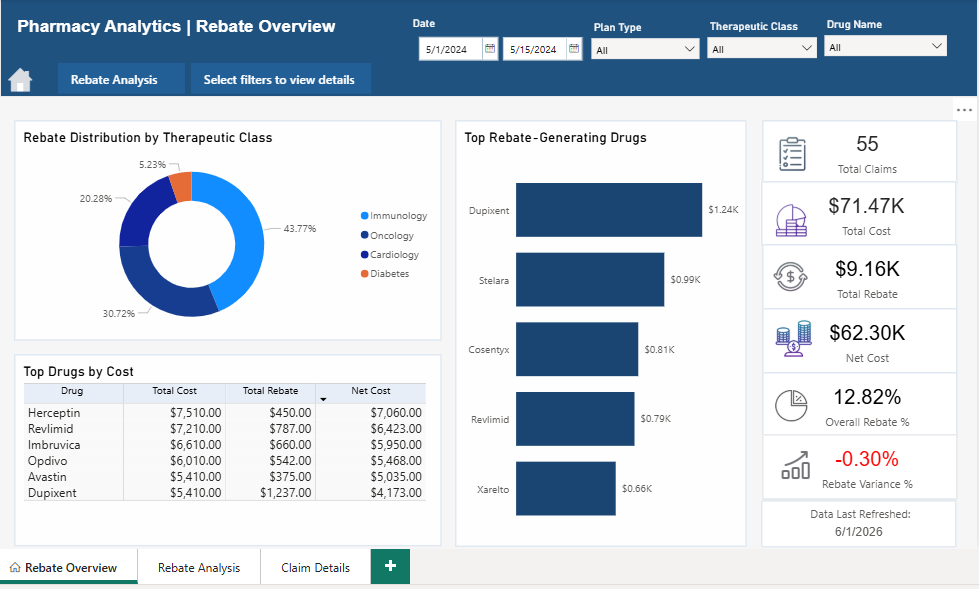

Layout of this report page (visuals, bound fields, positions):
{"tool":"powerbi","page":{"name":"Rebate Overview","canvas":[1280,720],"ordinal":0},"visuals":[{"type":"shape","box":[0,0,1280.2,128.2],"z":0},{"type":"card","title":"Data Last Refreshed:","fields":{"Values":["Min(RefreshDate.RefreshDate)"]},"box":[996.5,645.1,256.3,72],"z":1000},{"type":"clusteredBarChart","title":"Top Rebate-Generating Drugs","fields":{"Category":["Drugs.Drug_Name"],"Y":["Measures Table.Total Rebate"]},"box":[599,144,385.9,570.2],"z":2000},{"type":"tableEx","title":"Top Drugs by Cost","fields":{"Values":["Drugs.Drug_Name","Claims.Total Cost","Claims.Total Rebate","Claims.Net Cost"]},"box":[18.7,457.9,568.8,256.3],"z":3000},{"type":"donutChart","title":"Rebate Distribution by Therapeutic Class","fields":{"Category":["Drugs.Therapeutic_Class"],"Y":["Measures Table.Total Rebate"]},"box":[18.7,144,568.8,303.8],"z":4000},{"type":"group","id":"g1","title":"Group 1","box":[996.5,144.8,256.3,83.5],"z":5000},{"type":"group","id":"g2","title":"Group 2","box":[995,227.1,257.9,86.4],"z":6000},{"type":"group","id":"g3","title":"Group 3","box":[996.5,310.6,256.3,86.4],"z":7000},{"type":"group","id":"g4","title":"Group 4","box":[996.5,395.4,256,86],"z":8000},{"type":"group","id":"g5","title":"Group 5","box":[996.5,479.1,256.3,86.4],"z":9000},{"type":"slicer","fields":{"Values":["Drugs.Drug_Name"]},"box":[1069.9,20.2,180,57.6],"z":10000},{"type":"slicer","fields":{"Values":["Drugs.Therapeutic_Class"]},"box":[915.8,21.6,162.7,59],"z":11000},{"type":"slicer","fields":{"Values":["Plans.Plan_Type"]},"box":[764.6,23,161.3,60.5],"z":12000},{"type":"slicer","title":"Date","fields":{"Values":["Claims.Date"]},"box":[535.7,23,233.3,60.5],"z":13000},{"type":"card","title":"Rebate Variance  %","fields":{"Values":["Measures List.Rebate Variance %"]},"box":[996.5,562.6,256,86],"z":13000,"group":"g14"},{"type":"image","box":[2.9,85,47.5,41.8],"z":14000},{"type":"card","title":"Overall Rebate %","fields":{"Values":["Measures List.Rebate %"]},"box":[996.5,479.1,256.3,86.4],"z":14000,"group":"g13"},{"type":"card","title":"Net Cost","fields":{"Values":["Claims.Net Cost"]},"box":[996.5,395.4,256,86],"z":15000,"group":"g12"},{"type":"group","id":"g6","title":"Group 6","box":[996.5,562.6,256,86],"z":15000},{"type":"group","id":"g7","title":"Group 13","box":[85,83.6,153,40.4],"z":16000},{"type":"card","title":"Total Rebate","fields":{"Values":["Claims.Total Rebate"]},"box":[996.5,310.6,256.3,86.4],"z":16000,"group":"g11"},{"type":"actionButton","box":[85,83.6,152.8,38.9],"z":17000,"group":"g7"},{"type":"group","id":"g8","title":"Group 14","box":[248.2,83.7,212.1,39],"z":17000},{"type":"card","title":"Total Cost","fields":{"Values":["Claims.Total Cost"]},"box":[996.6,227.1,256.3,86.4],"z":17000,"group":"g10"},{"type":"actionButton","box":[85,85,153,39],"z":18000,"group":"g7"},{"type":"actionButton","box":[248.2,83.7,212.1,39],"z":19000,"group":"g8"},{"type":"card","title":"Total Claims","fields":{"Values":["Claims.Total Claims"]},"box":[996.5,144.8,256.3,83.5],"z":19000,"group":"g9"},{"type":"actionButton","box":[248.2,85.1,212.1,36.1],"z":19500,"group":"g8"},{"type":"group","id":"g9","title":"Group 7","box":[996.5,144.8,256.3,83.5],"z":23001,"group":"g1"},{"type":"group","id":"g10","title":"Group 8","box":[995,227.1,257.9,86.4],"z":23001,"group":"g2"},{"type":"group","id":"g11","title":"Group 9","box":[996.5,310.6,256.3,86.4],"z":23001,"group":"g3"},{"type":"group","id":"g12","title":"Group 10","box":[996.5,395.4,256,86],"z":23001,"group":"g4"},{"type":"group","id":"g13","title":"Group 11","box":[996.5,479.1,256.3,86.4],"z":23001,"group":"g5"},{"type":"group","id":"g14","title":"Group 12","box":[996.5,562.6,256,86],"z":23001,"group":"g6"},{"type":"image","box":[995,250.1,61.9,56.2],"z":24000,"group":"g10"},{"type":"image","box":[1010.9,499.3,47.5,49],"z":25000,"group":"g13"},{"type":"image","box":[1010.9,326.4,46.1,53.3],"z":26000,"group":"g11"},{"type":"image","box":[1013.8,409.8,49,50.4],"z":27000,"group":"g12"},{"type":"image","box":[1012.3,162.9,47.5,51.5],"z":28000,"group":"g9"},{"type":"image","box":[1013.7,582.2,54.7,41.8],"z":29000,"group":"g14"}]}

Visuals, with their boxes on the page's 1280x720 design canvas (x1, y1, x2, y2). These are canvas units, not pixel positions in the 979x589 screenshot, which may show the page scaled, cropped or inside an application window:
shape: x1=0 y1=0 x2=1280 y2=128
"Data Last Refreshed:" card: x1=996 y1=645 x2=1253 y2=717
"Top Rebate-Generating Drugs" clusteredBarChart: x1=599 y1=144 x2=985 y2=714
"Top Drugs by Cost" tableEx: x1=19 y1=458 x2=588 y2=714
"Rebate Distribution by Therapeutic Class" donutChart: x1=19 y1=144 x2=588 y2=448
"Group 1" group: x1=996 y1=145 x2=1253 y2=228
"Group 2" group: x1=995 y1=227 x2=1253 y2=314
"Group 3" group: x1=996 y1=311 x2=1253 y2=397
"Group 4" group: x1=996 y1=395 x2=1252 y2=481
"Group 5" group: x1=996 y1=479 x2=1253 y2=566
slicer - Drugs.Drug_Name: x1=1070 y1=20 x2=1250 y2=78
slicer - Drugs.Therapeutic_Class: x1=916 y1=22 x2=1078 y2=81
slicer - Plans.Plan_Type: x1=765 y1=23 x2=926 y2=84
"Date" slicer: x1=536 y1=23 x2=769 y2=84
"Rebate Variance  %" card: x1=996 y1=563 x2=1252 y2=649
image: x1=3 y1=85 x2=50 y2=127
"Overall Rebate %" card: x1=996 y1=479 x2=1253 y2=566
"Net Cost" card: x1=996 y1=395 x2=1252 y2=481
"Group 6" group: x1=996 y1=563 x2=1252 y2=649
"Group 13" group: x1=85 y1=84 x2=238 y2=124
"Total Rebate" card: x1=996 y1=311 x2=1253 y2=397
actionButton: x1=85 y1=84 x2=238 y2=122
"Group 14" group: x1=248 y1=84 x2=460 y2=123
"Total Cost" card: x1=997 y1=227 x2=1253 y2=314
actionButton: x1=85 y1=85 x2=238 y2=124
actionButton: x1=248 y1=84 x2=460 y2=123
"Total Claims" card: x1=996 y1=145 x2=1253 y2=228
actionButton: x1=248 y1=85 x2=460 y2=121
"Group 7" group: x1=996 y1=145 x2=1253 y2=228
"Group 8" group: x1=995 y1=227 x2=1253 y2=314
"Group 9" group: x1=996 y1=311 x2=1253 y2=397
"Group 10" group: x1=996 y1=395 x2=1252 y2=481
"Group 11" group: x1=996 y1=479 x2=1253 y2=566
"Group 12" group: x1=996 y1=563 x2=1252 y2=649
image: x1=995 y1=250 x2=1057 y2=306
image: x1=1011 y1=499 x2=1058 y2=548
image: x1=1011 y1=326 x2=1057 y2=380
image: x1=1014 y1=410 x2=1063 y2=460
image: x1=1012 y1=163 x2=1060 y2=214
image: x1=1014 y1=582 x2=1068 y2=624
